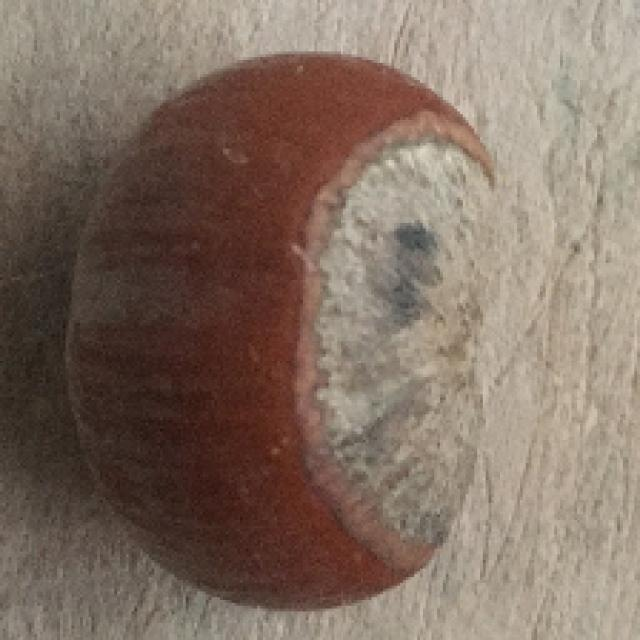qualityHazelnut: (73, 48, 494, 614)
